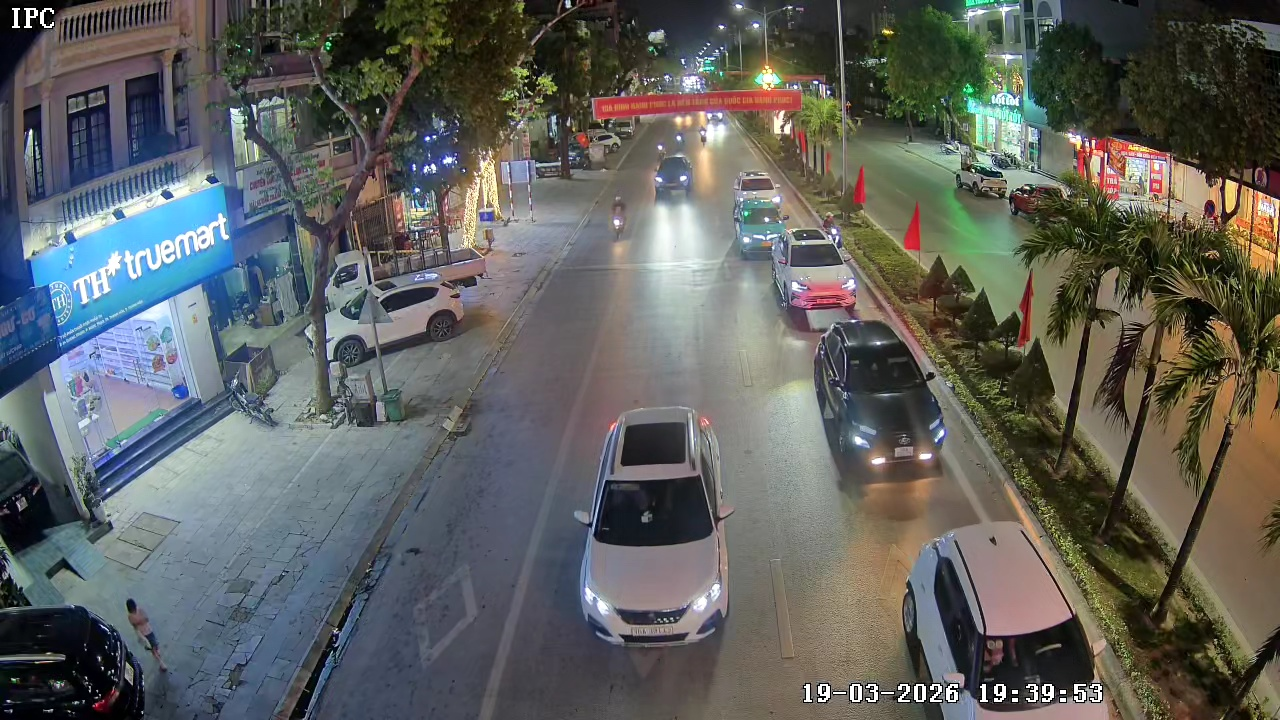car: (572, 403, 735, 667), (900, 519, 1113, 719), (811, 317, 949, 476), (0, 603, 151, 719), (361, 266, 469, 357), (770, 225, 860, 328), (732, 192, 790, 257), (733, 169, 784, 226), (654, 154, 692, 199)
motorbike: (609, 195, 629, 239)
